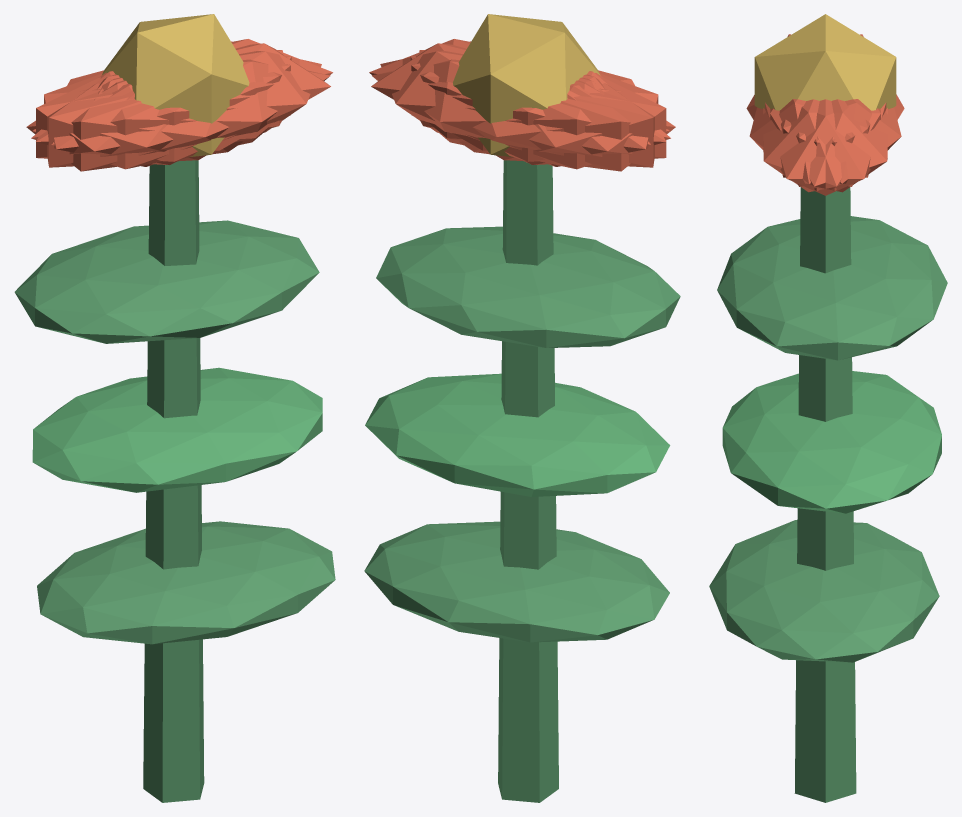
The model's file is amaranthus-deflexus.glb.
3 views of the same model, side by side, from view 1: azimuth 30°, elevation 25°; view 2: azimuth 150°, elevation 25°; view 3: azimuth 270°, elevation 25° (orthographic).
Parts seen in each view (by area): view 1: leaf2, leaf0, leaf1, stem, center, petal1, petal6, petal2, petal5, petal7, petal0, petal4 (+2 smaller); view 2: leaf2, leaf1, leaf0, stem, center, petal8, petal3, petal7, petal4, petal2, petal0, petal5 (+2 smaller); view 3: leaf2, leaf0, leaf1, stem, center, petal0, petal5, petal4, petal1, petal8.
Part boxes in pixels (left/top/right/bottom): leaf2: left=14, top=220, right=319, bottom=343; leaf0: left=37, top=521, right=335, bottom=644; leaf1: left=32, top=367, right=322, bottom=492; stem: left=143, top=160, right=204, bottom=802; center: left=102, top=14, right=249, bottom=157; petal1: left=31, top=59, right=330, bottom=169; petal6: left=26, top=72, right=242, bottom=171; petal2: left=47, top=50, right=282, bottom=167; petal5: left=51, top=51, right=321, bottom=161; petal7: left=36, top=56, right=291, bottom=164; petal0: left=101, top=43, right=330, bottom=151; petal4: left=32, top=39, right=332, bottom=141; leaf2: left=376, top=226, right=680, bottom=347; leaf1: left=365, top=373, right=670, bottom=496; leaf0: left=364, top=521, right=669, bottom=642; stem: left=498, top=160, right=558, bottom=802; center: left=453, top=14, right=600, bottom=157; petal8: left=372, top=59, right=670, bottom=169; petal3: left=459, top=73, right=675, bottom=171; petal7: left=419, top=50, right=654, bottom=167; petal4: left=380, top=51, right=650, bottom=161; petal2: left=410, top=56, right=666, bottom=164; petal0: left=371, top=43, right=600, bottom=151; petal5: left=369, top=39, right=669, bottom=142; leaf2: left=717, top=216, right=947, bottom=360; leaf0: left=709, top=520, right=939, bottom=662; leaf1: left=722, top=371, right=941, bottom=513; stem: left=794, top=187, right=856, bottom=802; center: left=754, top=14, right=896, bottom=110; petal0: left=765, top=99, right=886, bottom=195; petal5: left=763, top=99, right=880, bottom=192; petal4: left=770, top=99, right=887, bottom=192; petal1: left=749, top=99, right=870, bottom=183; petal8: left=781, top=99, right=901, bottom=183.
Size of the model in its own units: 0.1452 by 0.3613 by 0.1033.
